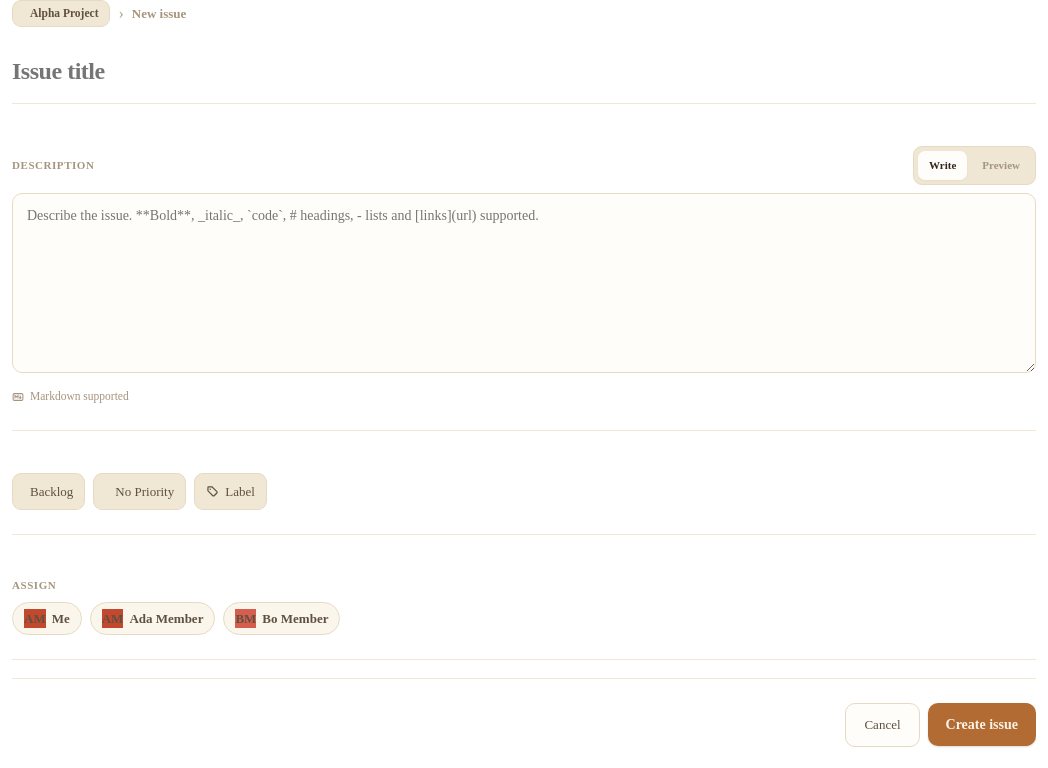
Scenario: CreateIssueForm › selects the current user and shows Clear when "Me" is clicked
The image size is (1048, 768).
expect the button "clear" is not shown: met
Click the button with aria-label "assign to me". click: point(47, 618)
box: [12,602,82,635]
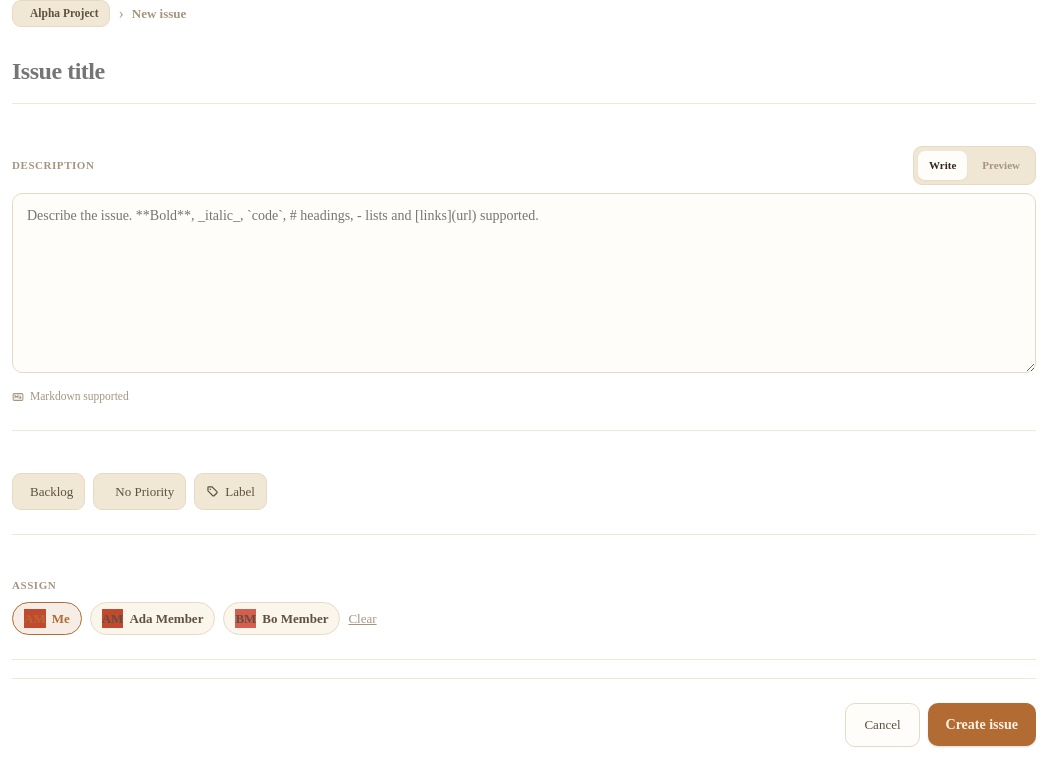
expect the button "Clear" is shown: met, box [348,609,377,628]
